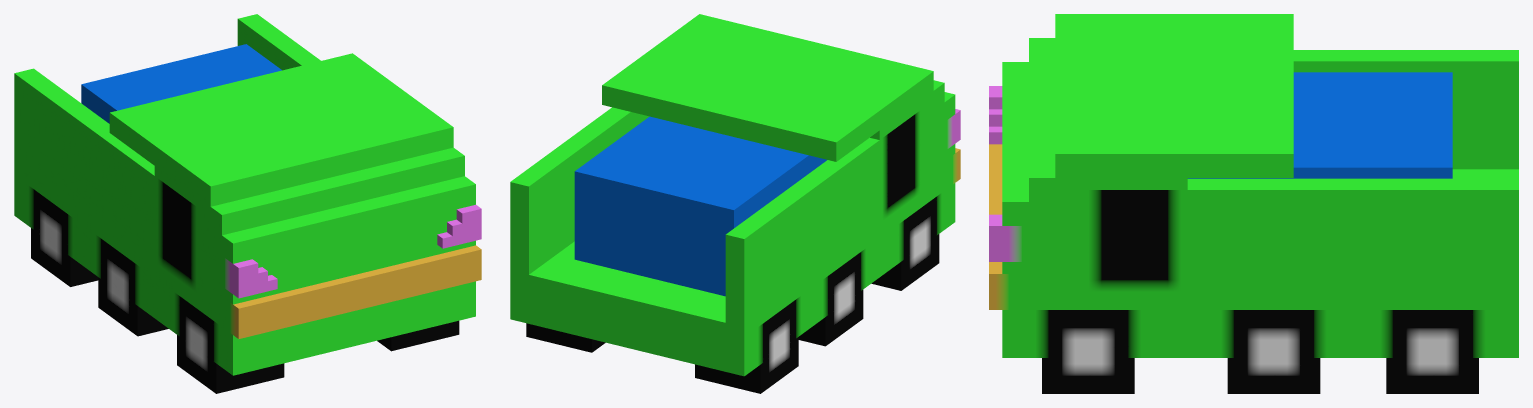
File: Car_6.fbx
The picture shows the model from 3 angles, left to right: view 1: azimuth 30°, elevation 25°; view 2: azimuth 150°, elevation 25°; view 3: azimuth 270°, elevation 25°; orthographic projection. The views are drawn at different scales.
Parts seen in each view (by area): view 1: Car_6; view 2: Car_6; view 3: Car_6.
Boxes of the visible parts, left/top/right/bottom form: Car_6: left=14, top=14, right=481, bottom=393; Car_6: left=510, top=14, right=960, bottom=393; Car_6: left=989, top=14, right=1518, bottom=393.
Size of the model in its own units: 25 by 20 by 40.
Materials: 1 (1 with a texture image).
